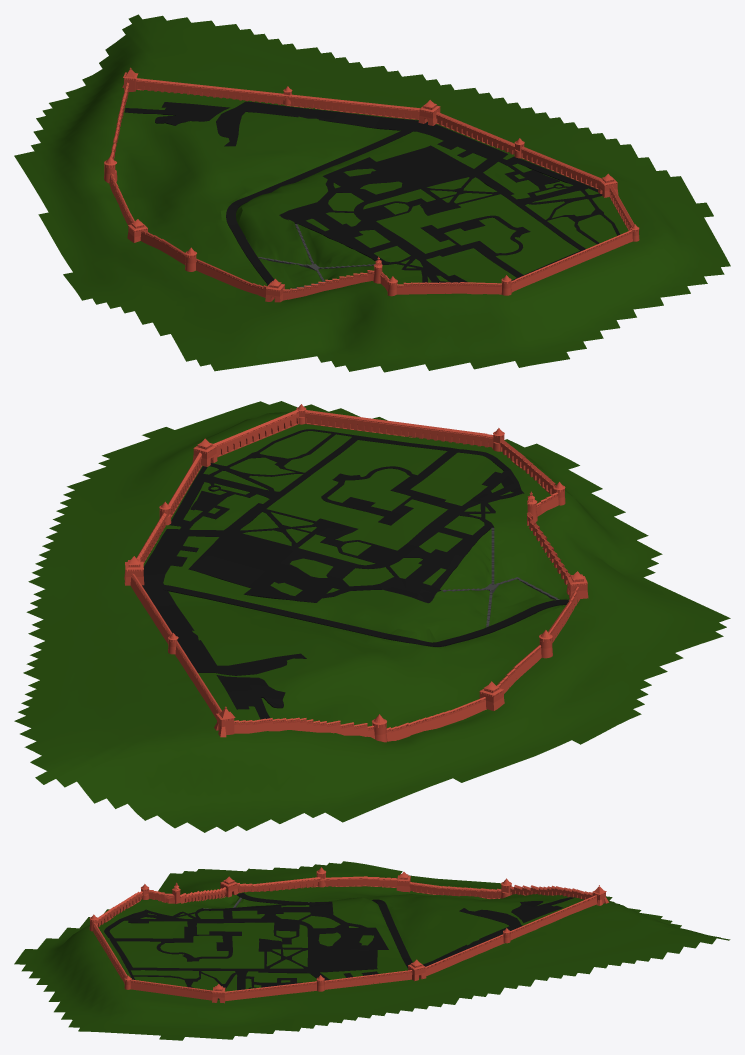
File: kremlin.glb
The picture shows the model from 3 angles, top to bottom: view 1: azimuth 30°, elevation 25°; view 2: azimuth 150°, elevation 25°; view 3: azimuth 270°, elevation 25°; orthographic projection. The views are drawn at different scales.
Visible parts, largest first — view 1: terrain, road2, walls, road3, road1, road4; view 2: terrain, road2, walls, road3, road1, road4, stairs; view 3: terrain, road2, walls, road3, road1, road4.
Boxes of the visible parts, left/top/right/bottom form: terrain: left=14, top=14, right=730, bottom=372; road2: left=279, top=145, right=619, bottom=284; walls: left=109, top=78, right=634, bottom=300; road3: left=216, top=101, right=499, bottom=158; road1: left=226, top=128, right=412, bottom=285; road4: left=124, top=102, right=229, bottom=125; terrain: left=14, top=401, right=730, bottom=832; road2: left=163, top=429, right=524, bottom=603; walls: left=130, top=410, right=579, bottom=741; road3: left=142, top=534, right=306, bottom=675; road1: left=163, top=585, right=568, bottom=646; road4: left=216, top=675, right=285, bottom=720; stairs: left=441, top=527, right=559, bottom=627; terrain: left=14, top=861, right=730, bottom=1040; road2: left=104, top=901, right=388, bottom=999; walls: left=92, top=876, right=596, bottom=1000; road3: left=343, top=908, right=522, bottom=977; road1: left=237, top=892, right=412, bottom=967; road4: left=511, top=897, right=574, bottom=922.
Size of the model in its own units: 3182 by 440 by 4489.
